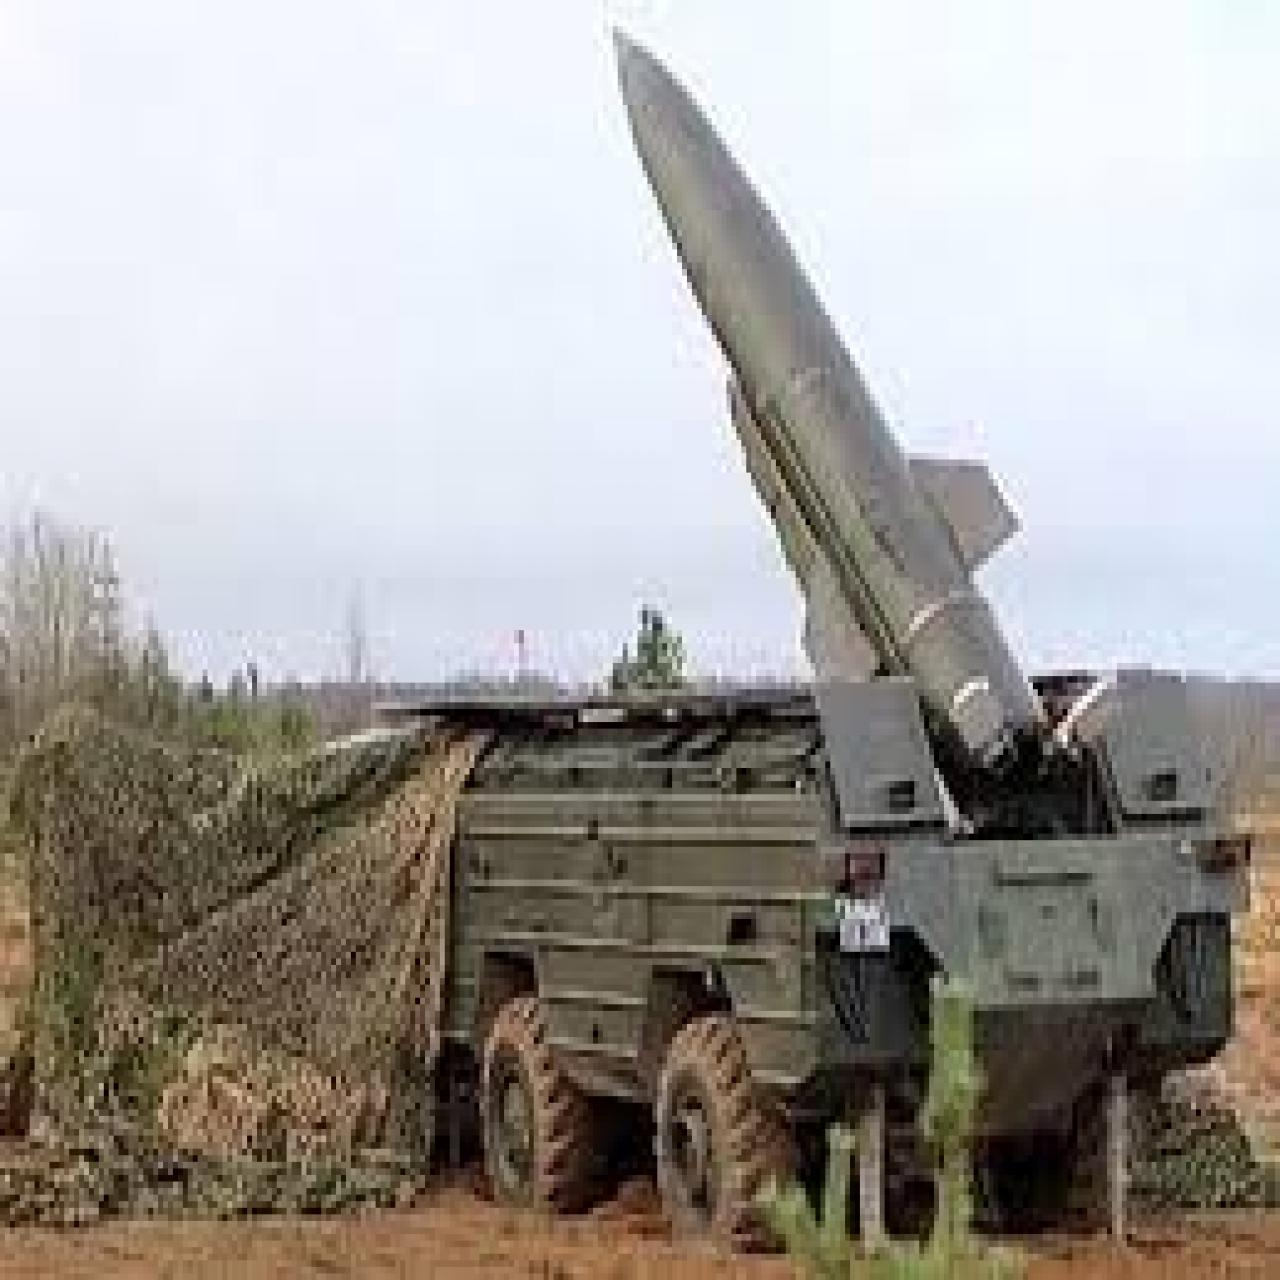MIL_Veh: (41, 23, 1239, 1242)
